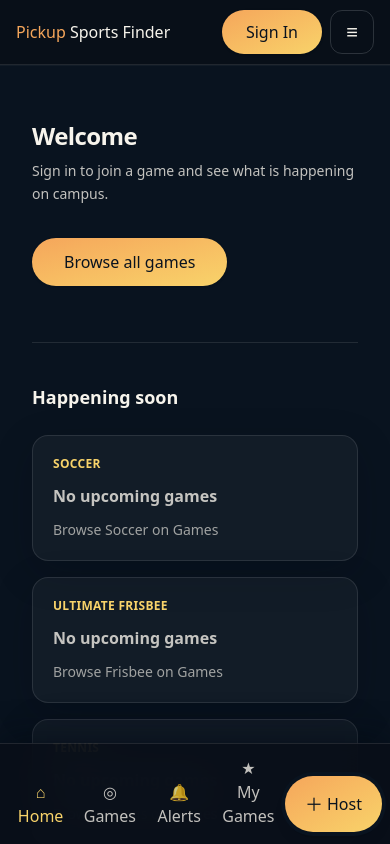
App › my games tab prompts sign-in when logged out
This screenshot has width=390, height=844.
Expected: the heading "Welcome" is shown, 32,119 -> 137,152
Click the button "★ My Games": (248, 792) 216,752 -> 281,832
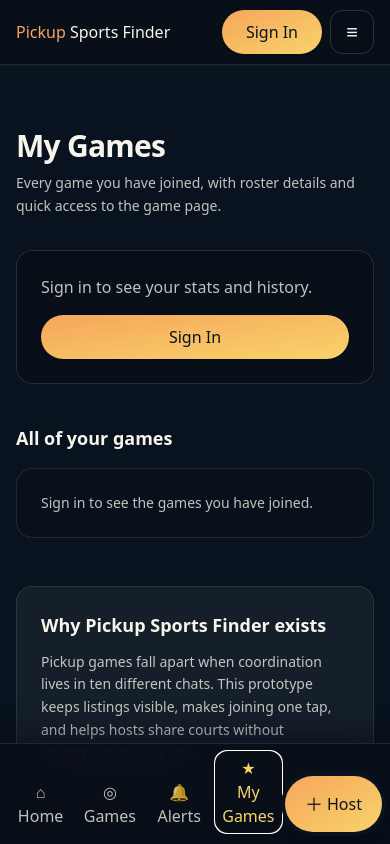
Expected: the text "Sign in to see the games you have joined." is shown, 16,468 -> 374,538
